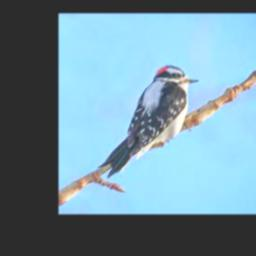Woodpecker: (99, 65, 199, 177)
